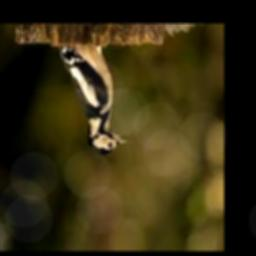Woodpecker: (58, 45, 128, 154)
